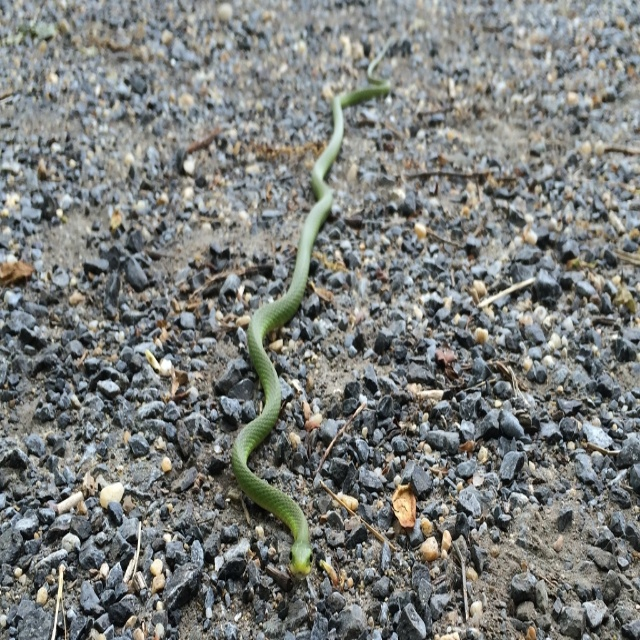Snake: (231, 31, 392, 582)
